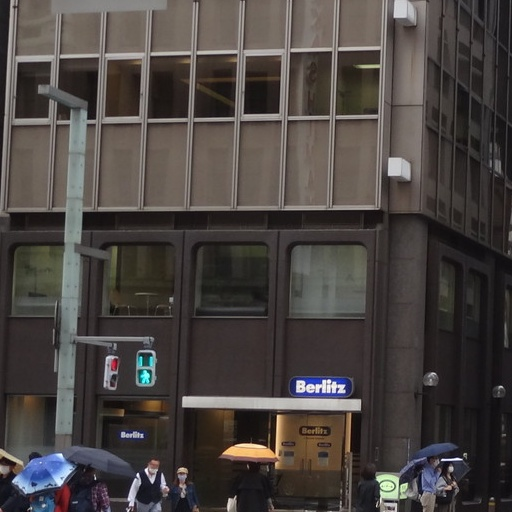Pedestrian_Signal_Blue: (130, 335, 163, 395)
Pedestrian_Signal_Red: (101, 348, 122, 399)
